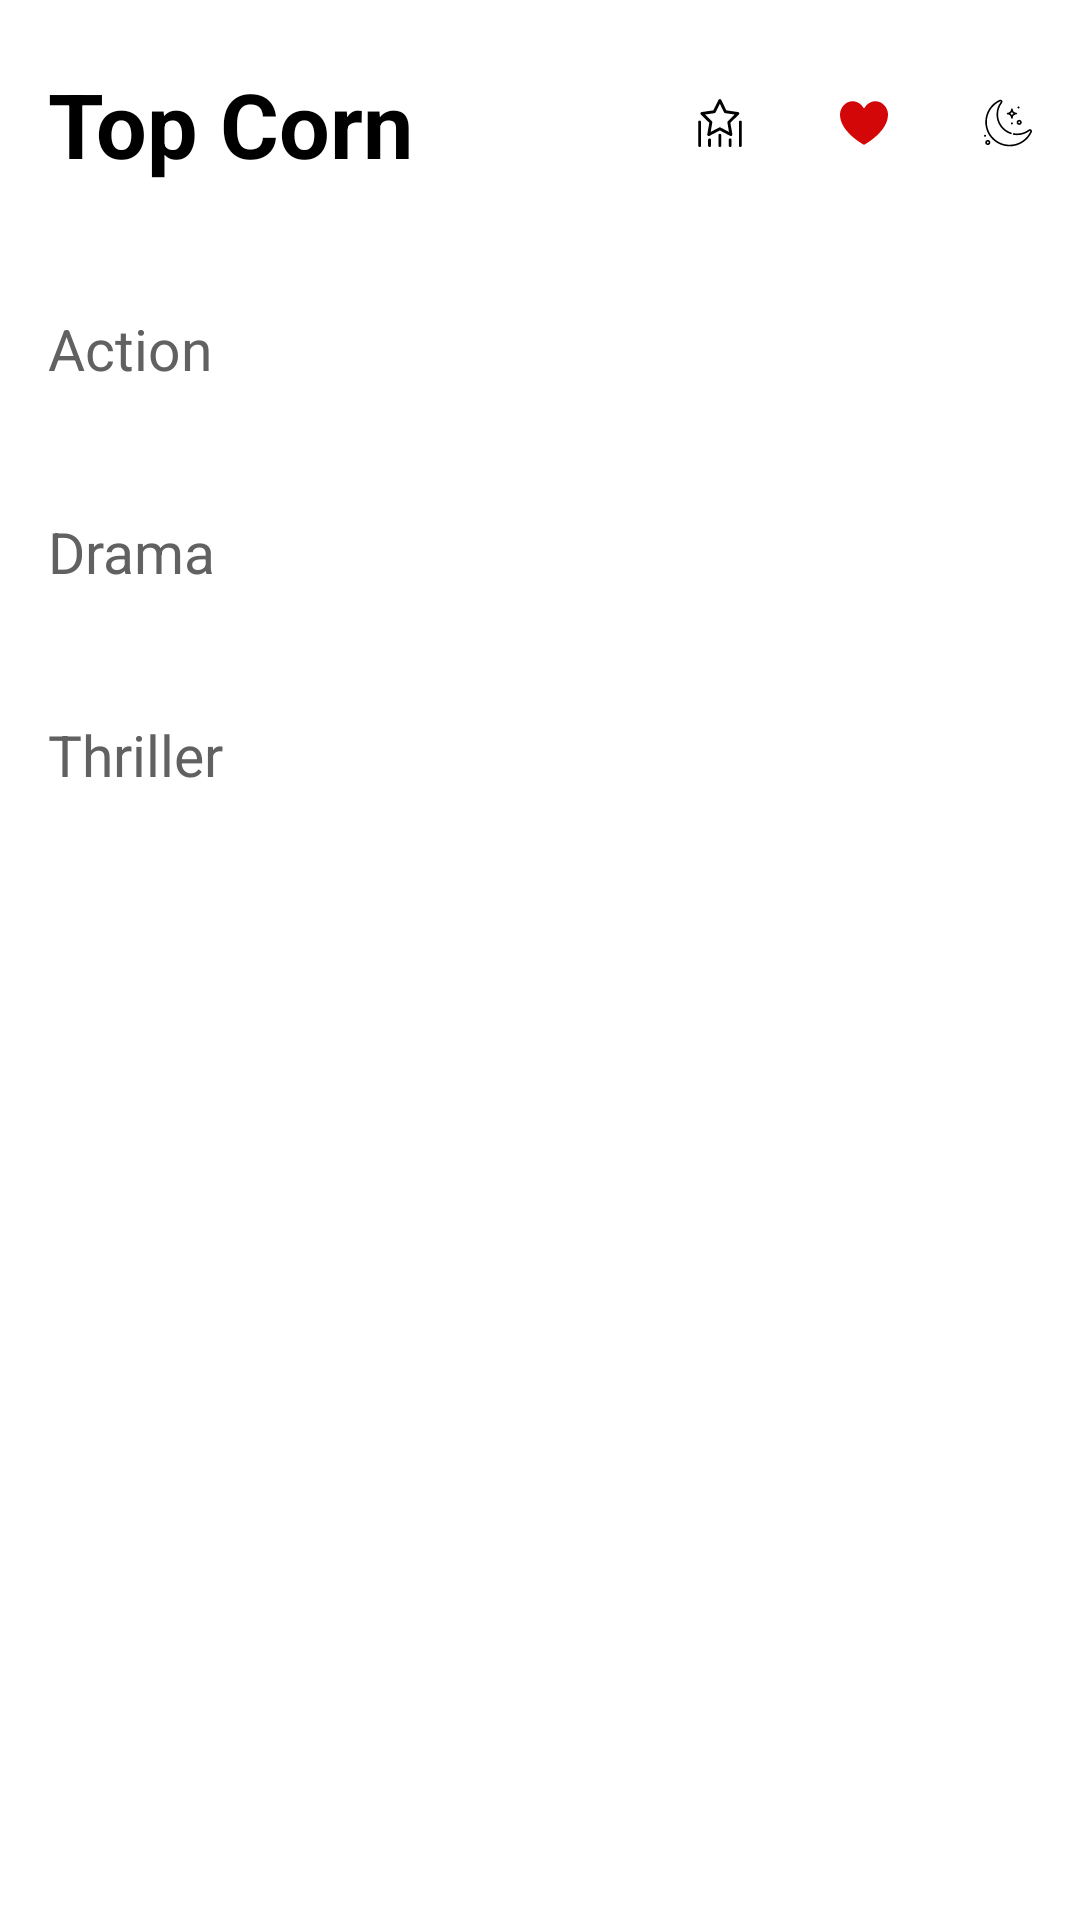

Named icons in this screenshot (1080 x 1920) and their bounding boxes, (x1, y1, x2, y2):
heart: (840, 101, 888, 145)
star: (698, 99, 742, 147)
switch mode: (984, 99, 1032, 147)
